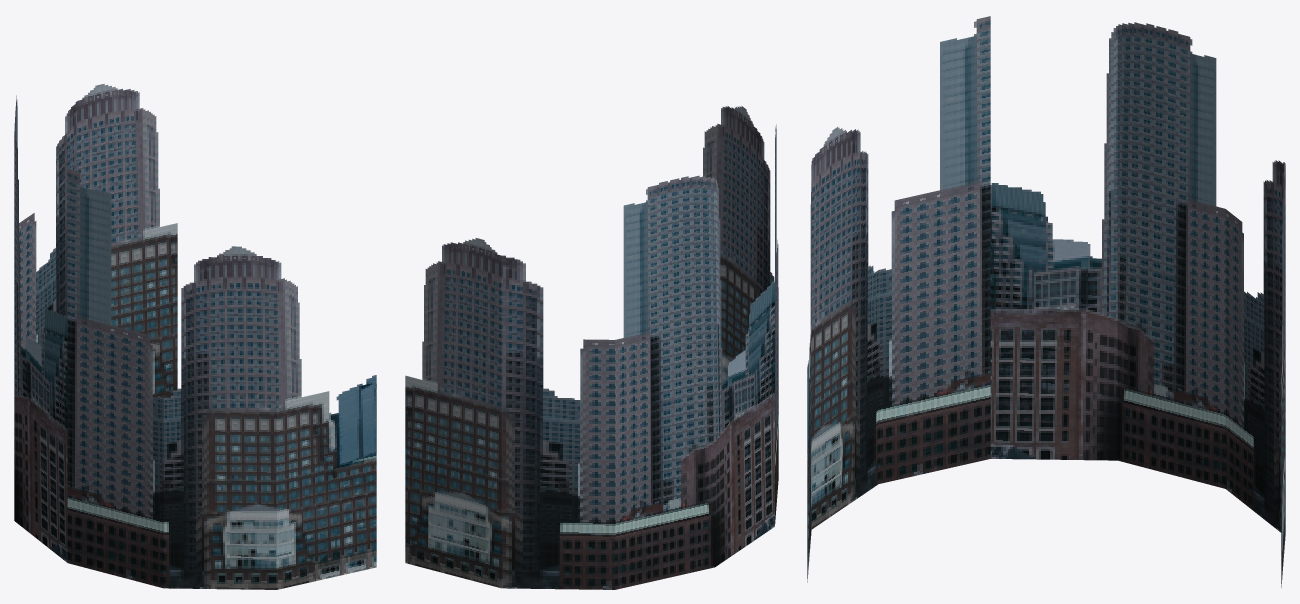
Rendered from skyboxHalf.glb.
3 renders of one model, left to right at view 1: azimuth 30°, elevation 25°; view 2: azimuth 150°, elevation 25°; view 3: azimuth 270°, elevation 25°, orthographic. The views are drawn at different scales.
Visible parts, largest first — view 1: citySkyboxHalf; view 2: citySkyboxHalf; view 3: citySkyboxHalf.
Boxes of the visible parts, x1,y1,x2,y2 form: citySkyboxHalf: (14, 83, 376, 589); citySkyboxHalf: (405, 106, 778, 589); citySkyboxHalf: (807, 16, 1285, 587).
Bounding box in the file's own units: 1.26 × 2 × 1.95.
Materials: 1 (1 with a texture image).
